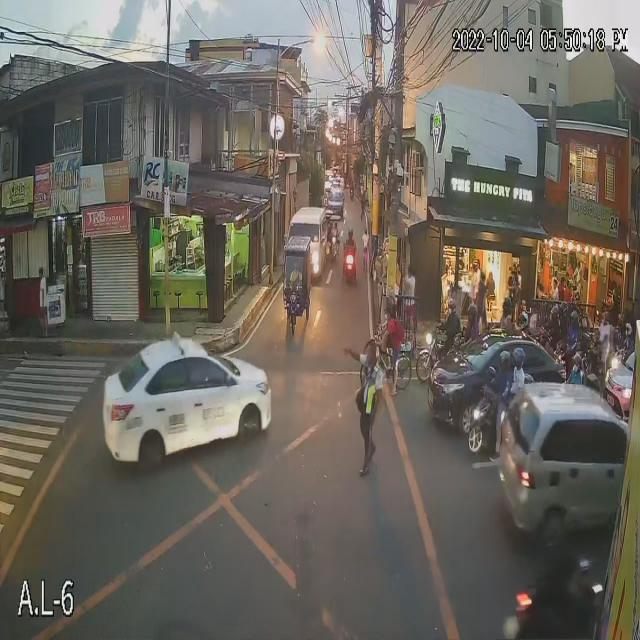helmet: (497, 348, 510, 372), (512, 348, 526, 370), (596, 301, 613, 319), (571, 353, 587, 371), (464, 305, 478, 323), (567, 311, 579, 330), (621, 321, 633, 339), (502, 294, 512, 315), (521, 311, 531, 329), (550, 308, 559, 326), (447, 299, 457, 315), (559, 301, 569, 315), (345, 227, 356, 239)
motorcycle: (508, 556, 602, 640), (474, 380, 512, 455), (415, 340, 447, 384), (342, 254, 358, 284)
rider: (537, 507, 592, 612), (594, 302, 615, 353), (510, 344, 527, 402), (494, 347, 509, 411), (441, 297, 461, 344), (563, 353, 583, 395), (566, 309, 584, 351), (462, 305, 480, 344), (619, 319, 636, 359), (548, 305, 562, 341), (499, 296, 512, 333), (344, 227, 357, 262), (558, 297, 570, 332), (519, 309, 528, 335)
